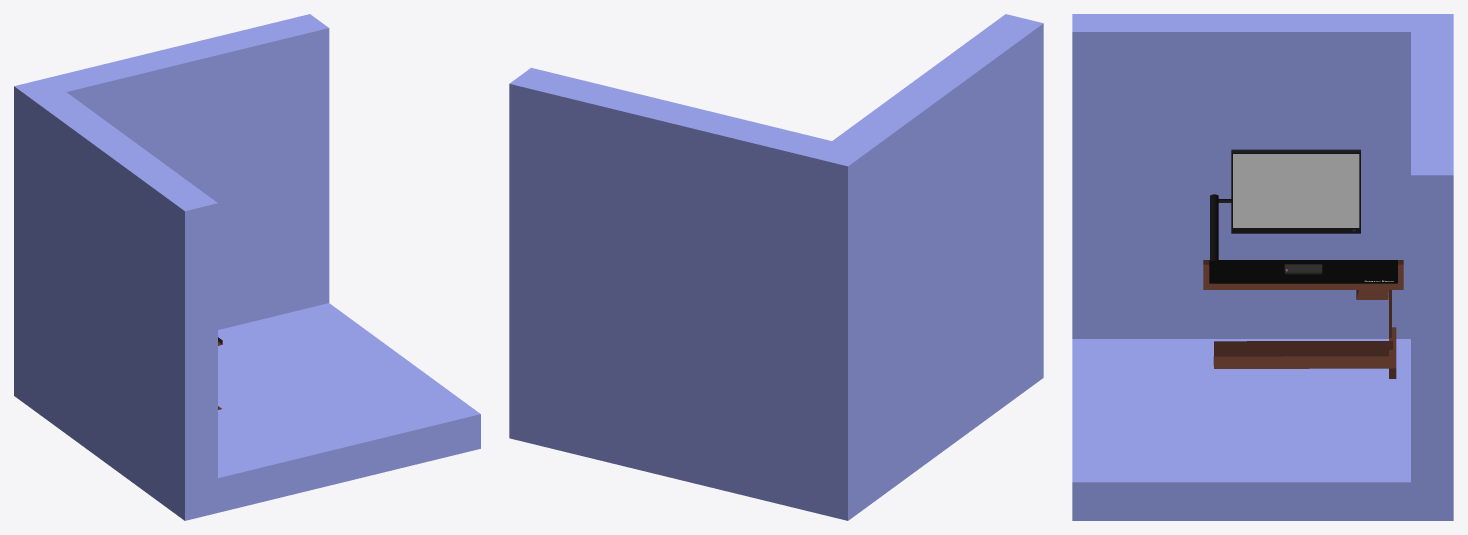
File: portfolio-room.glb
3 renders of one model, left to right at view 1: azimuth 30°, elevation 25°; view 2: azimuth 150°, elevation 25°; view 3: azimuth 270°, elevation 25°, orthographic. The views are drawn at different scales.
Parts seen in each view (by area): view 1: Cube; view 2: Cube; view 3: Cube, Plane, Table Cover, Table Bottom Rest, Table Bottom Support, Cube.001, Table Top, Cylinder.
Part boxes in pixels (x1,y1,x2,y2): Cube: [14, 14, 480, 520]; Cube: [509, 14, 1043, 520]; Cube: [1072, 14, 1453, 520]; Plane: [1233, 154, 1359, 227]; Table Cover: [1209, 260, 1397, 283]; Table Bottom Rest: [1214, 341, 1392, 356]; Table Bottom Support: [1213, 356, 1388, 368]; Cube.001: [1231, 149, 1360, 233]; Table Top: [1203, 260, 1403, 289]; Cylinder: [1210, 194, 1218, 261].
Size of the model in its own units: 55.33 by 55.33 by 55.33.
